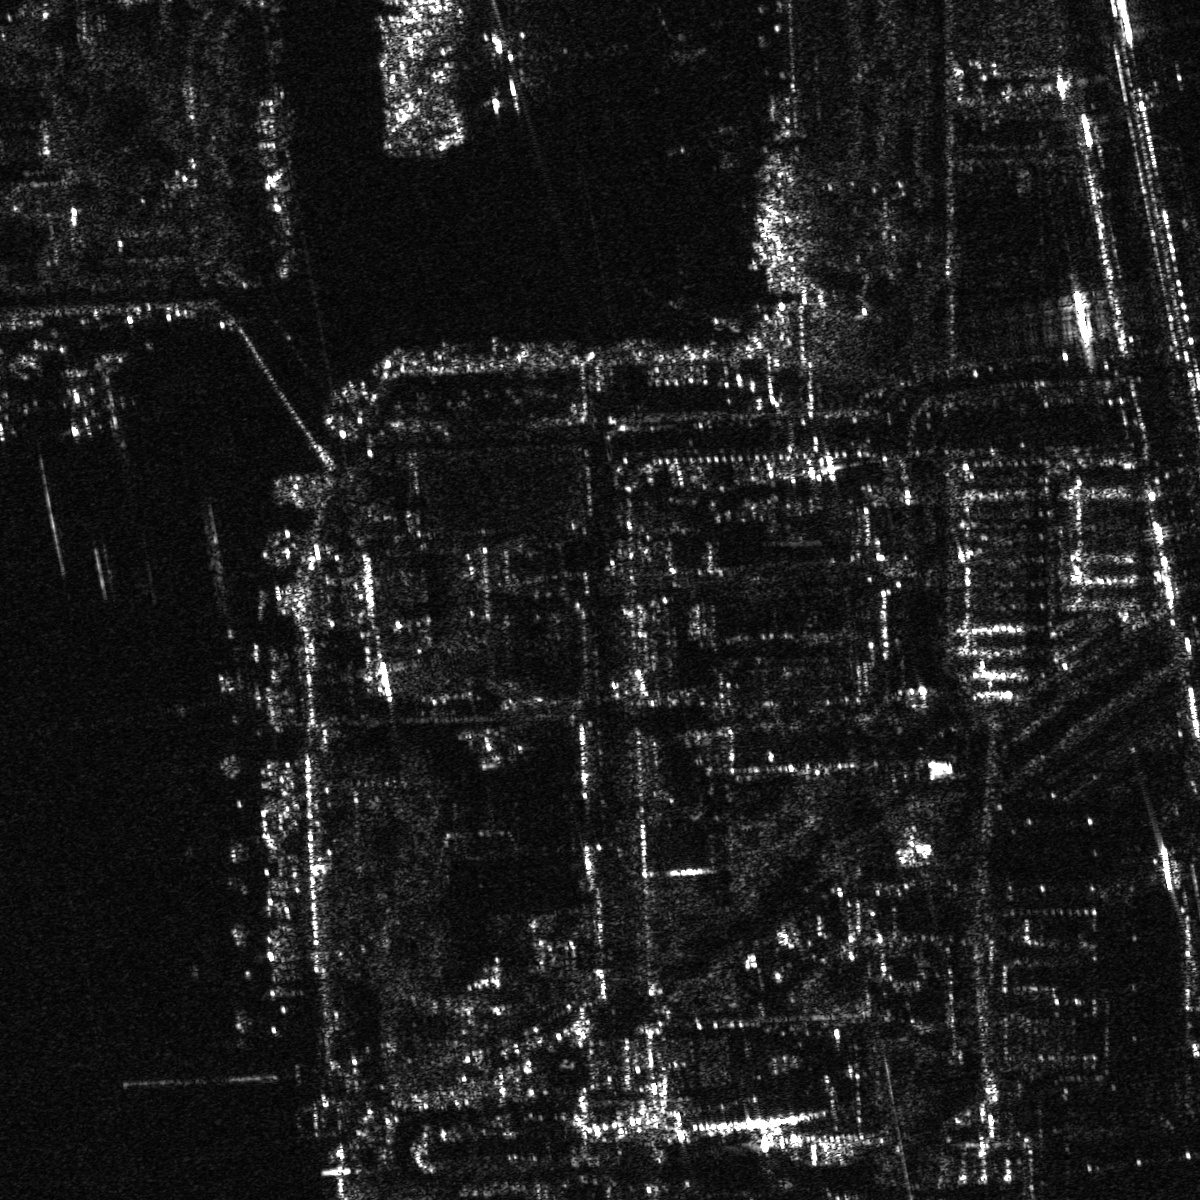Boeing737: (473, 26, 551, 116), (49, 364, 118, 443)
other: (608, 5, 712, 95)
